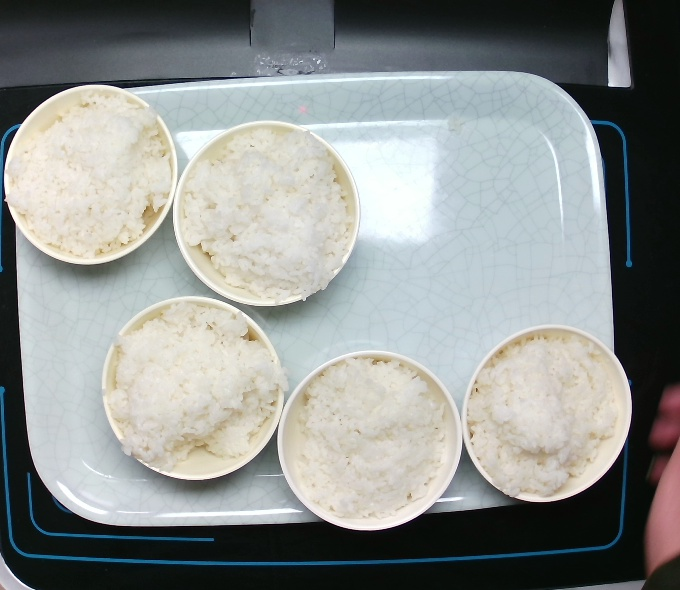wcq-MiFan: (106, 302, 273, 478), (178, 128, 352, 288), (281, 357, 455, 517), (458, 333, 632, 493), (1, 92, 173, 252)
